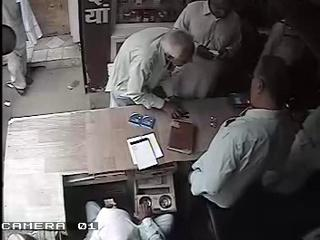Normal: (188, 55, 296, 239), (105, 26, 195, 118), (166, 0, 243, 99)
